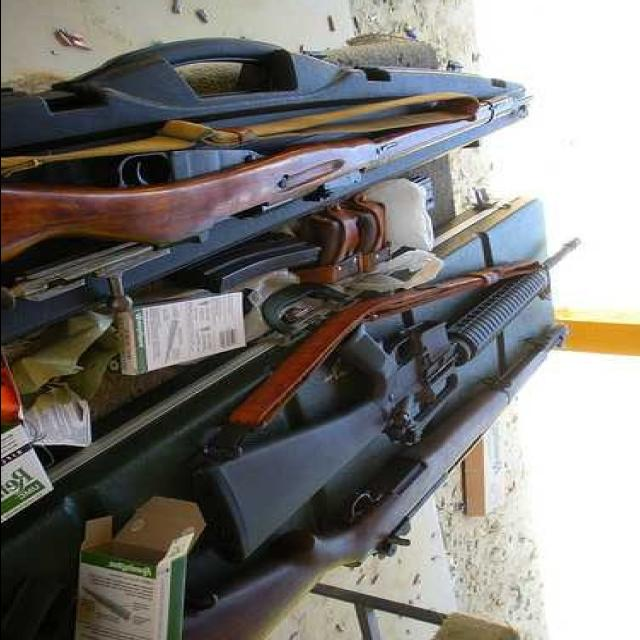heavyweapon: (187, 228, 588, 572), (151, 323, 576, 640), (1, 69, 547, 265)
